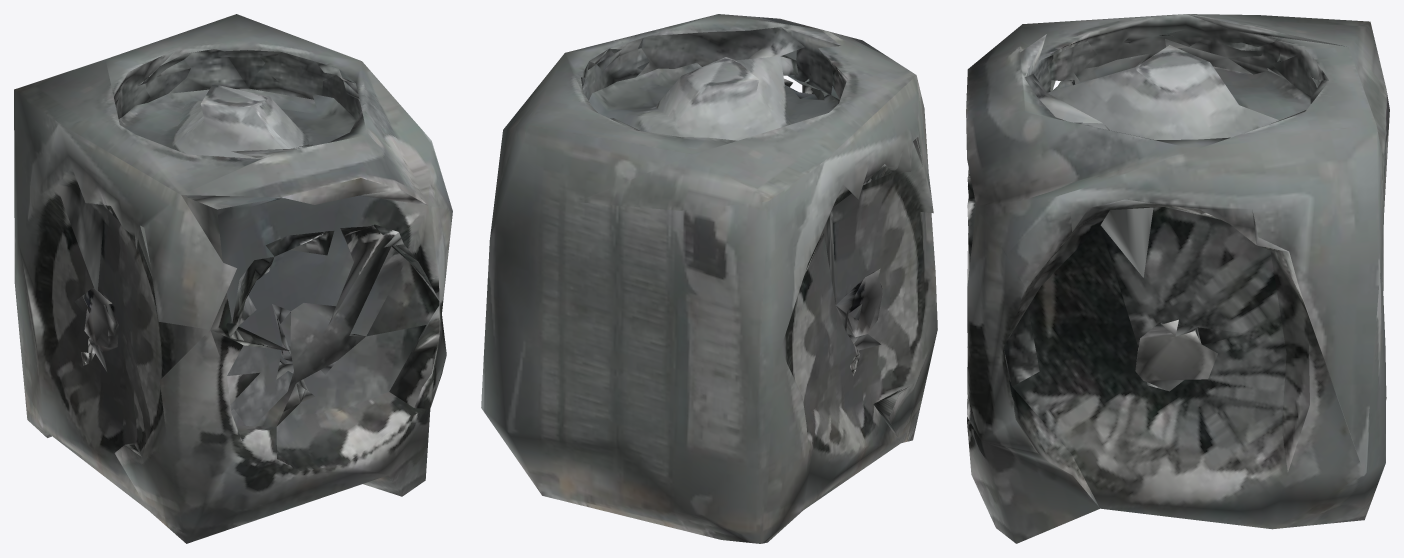
Rendered from roof-ac.glb.
3 renders of one model, left to right at view 1: azimuth 30°, elevation 25°; view 2: azimuth 150°, elevation 25°; view 3: azimuth 270°, elevation 25°, orthographic. The views are drawn at different scales.
Parts seen in each view (by area): view 1: Mesh_0.005; view 2: Mesh_0.005; view 3: Mesh_0.005.
Part boxes in pixels (left/top/right/bottom): Mesh_0.005: left=14, top=14, right=452, bottom=543; Mesh_0.005: left=481, top=14, right=937, bottom=543; Mesh_0.005: left=966, top=14, right=1389, bottom=543.
Size of the model in its own units: 0.8997 by 1.1 by 1.01.
Materials: 1 (1 with a texture image).
